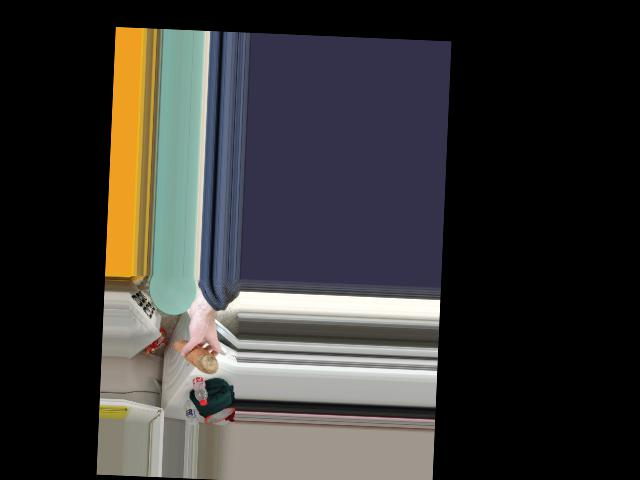sweet_potato: (172, 341, 219, 375)
